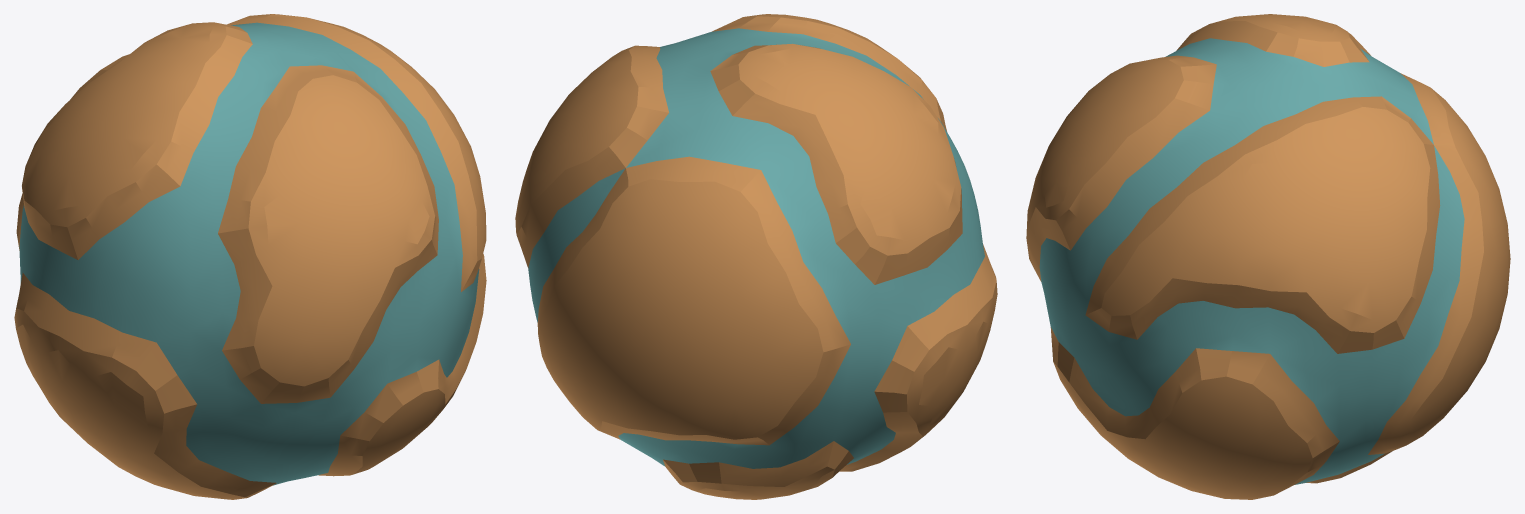
The model's file is Planet_2.gltf.
3 views of the same model, side by side, from view 1: azimuth 30°, elevation 25°; view 2: azimuth 150°, elevation 25°; view 3: azimuth 270°, elevation 25° (orthographic).
Parts seen in each view (by area): view 1: Planet_2; view 2: Planet_2; view 3: Planet_2.
Part boxes in pixels (box(x1,y1,x2,y2)): Planet_2: box(14, 14, 486, 499); Planet_2: box(515, 14, 997, 499); Planet_2: box(1026, 14, 1510, 499).
Bounding box in the file's own units: 3.8 × 3.82 × 3.84.
Materials: 1 (1 with a texture image).
